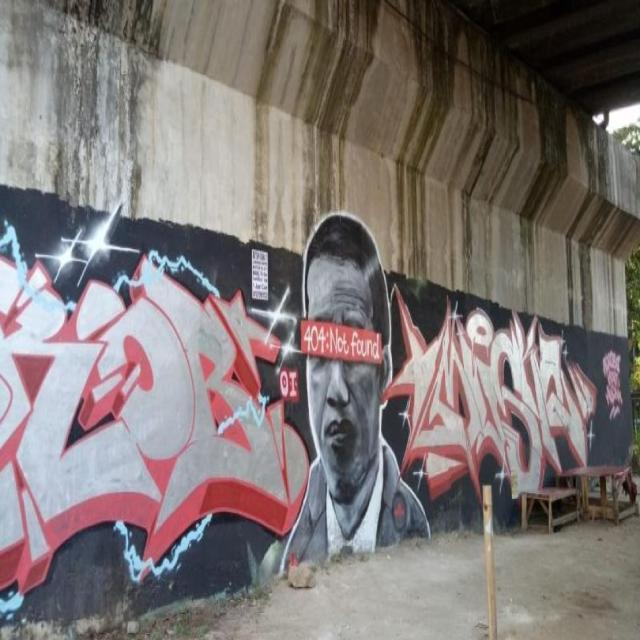-: (1, 184, 634, 634)
